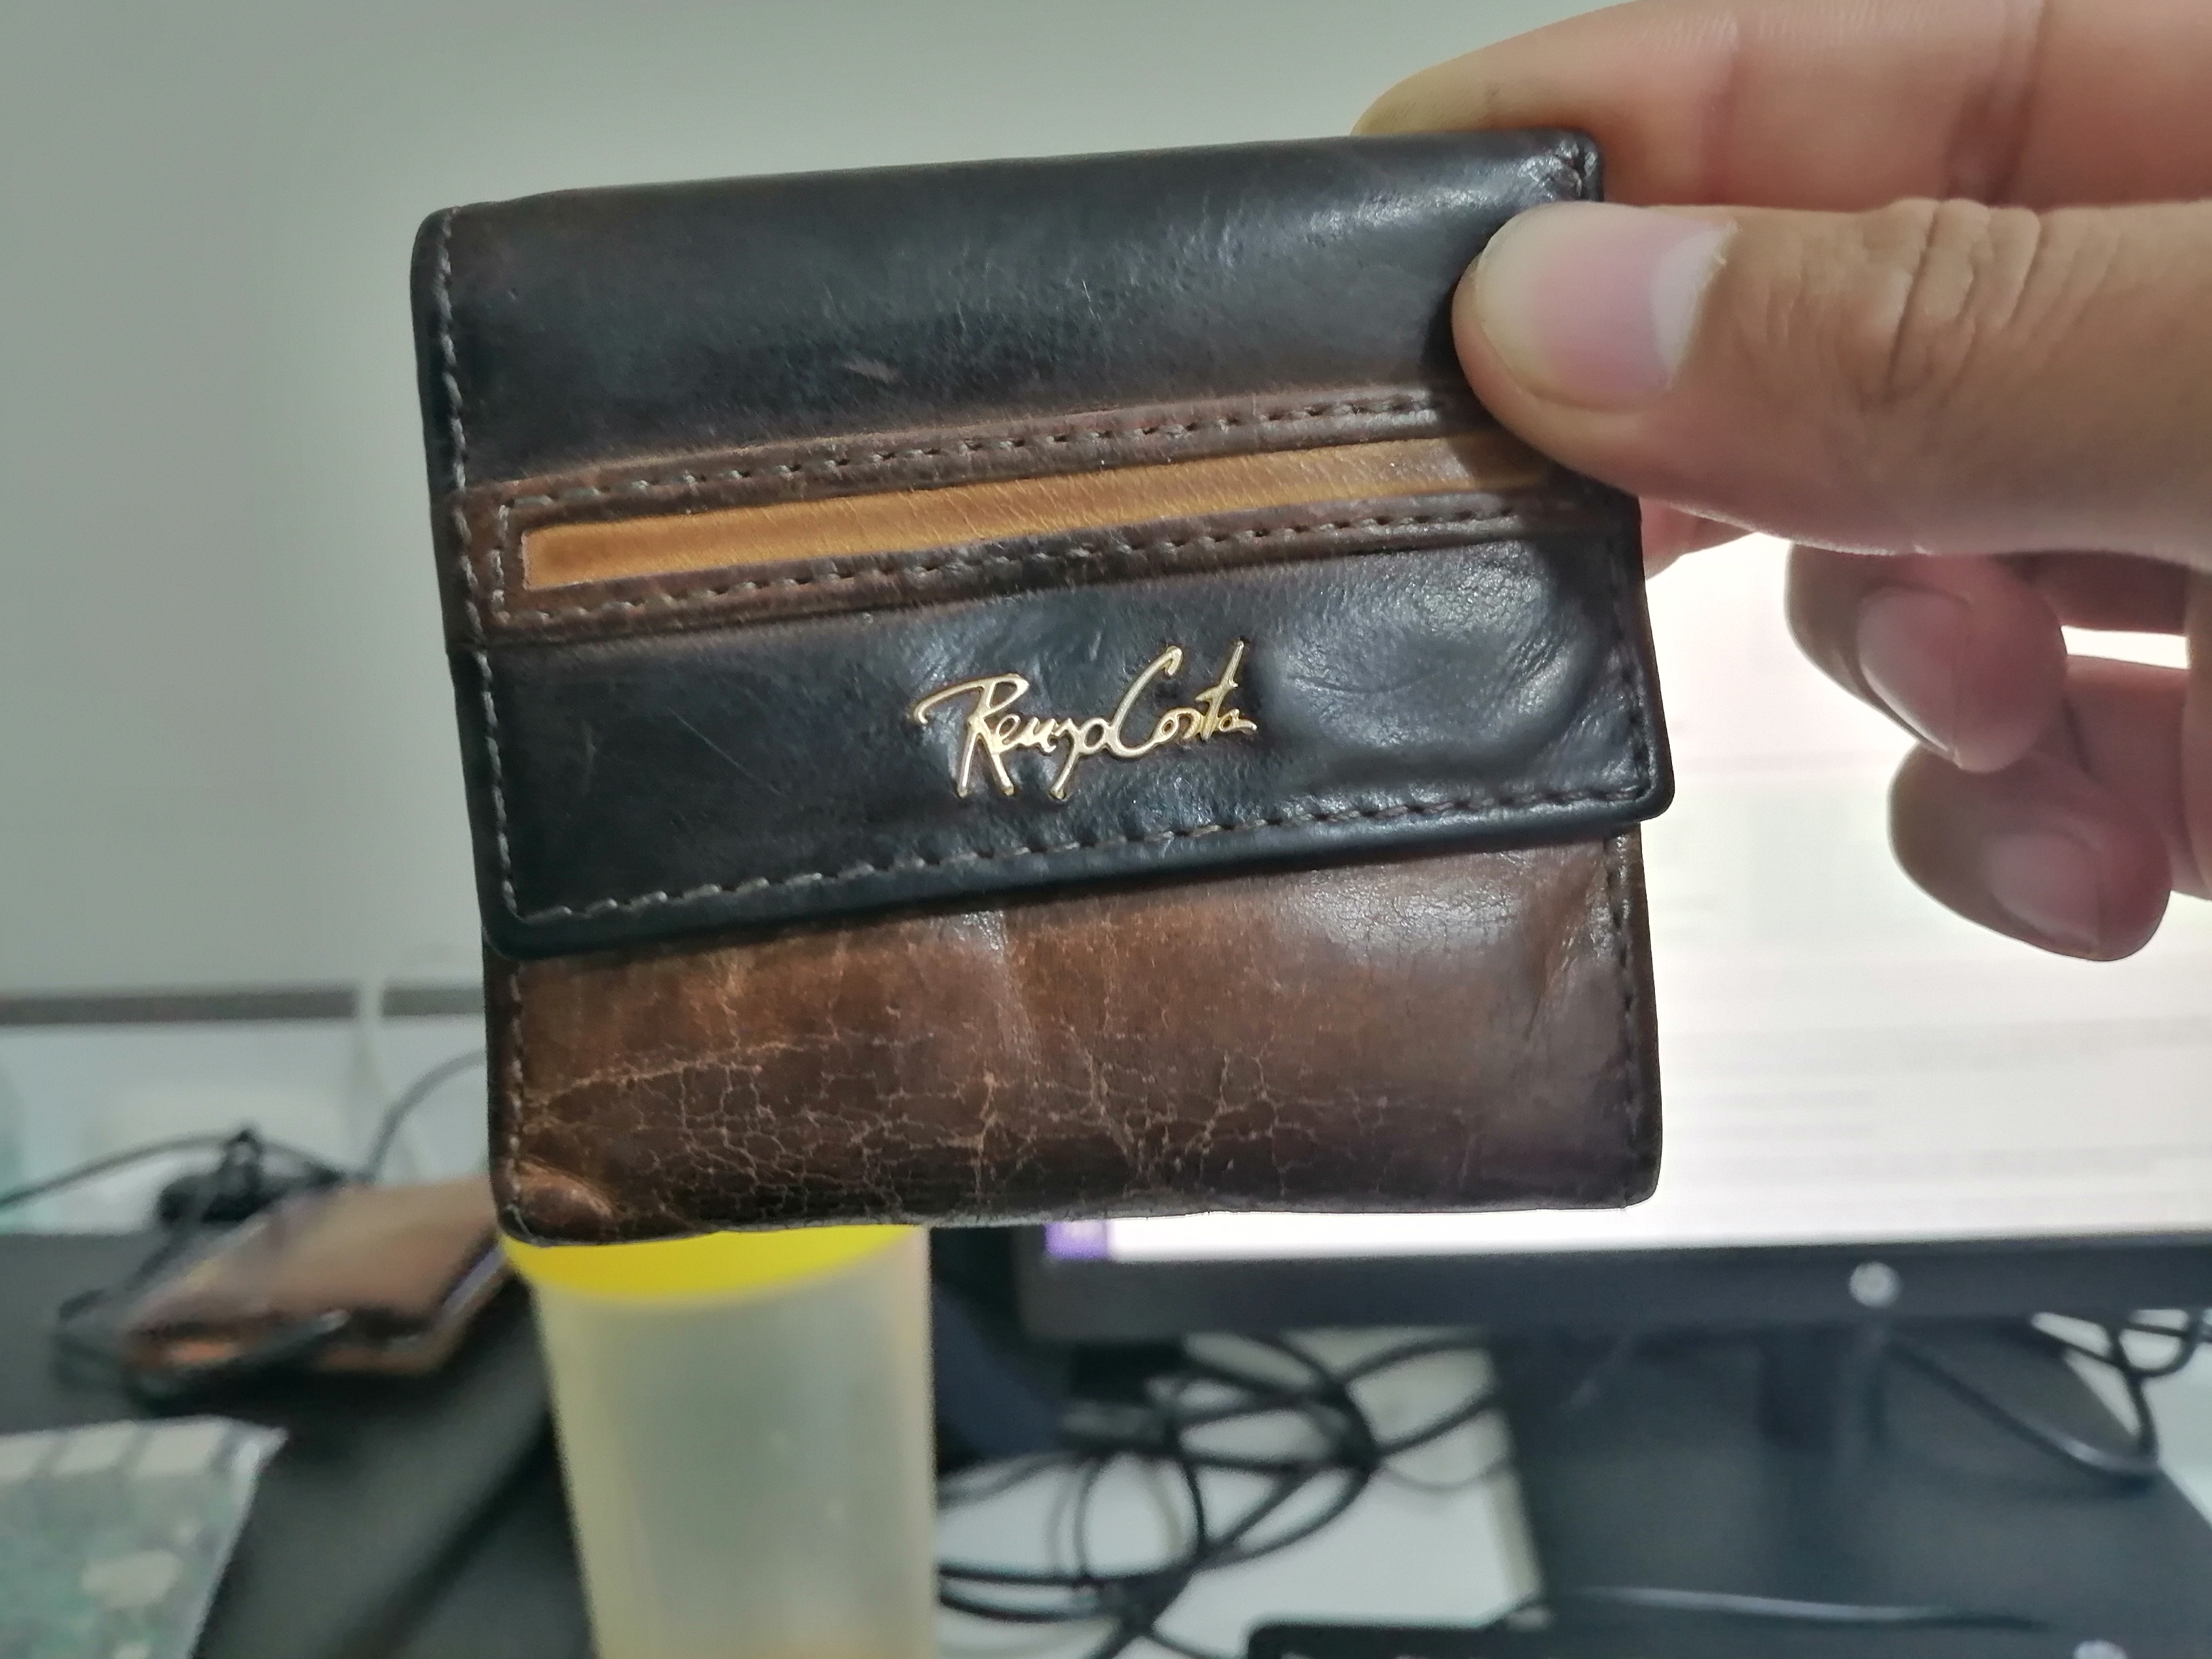monedero: (369, 110, 1698, 1262)
